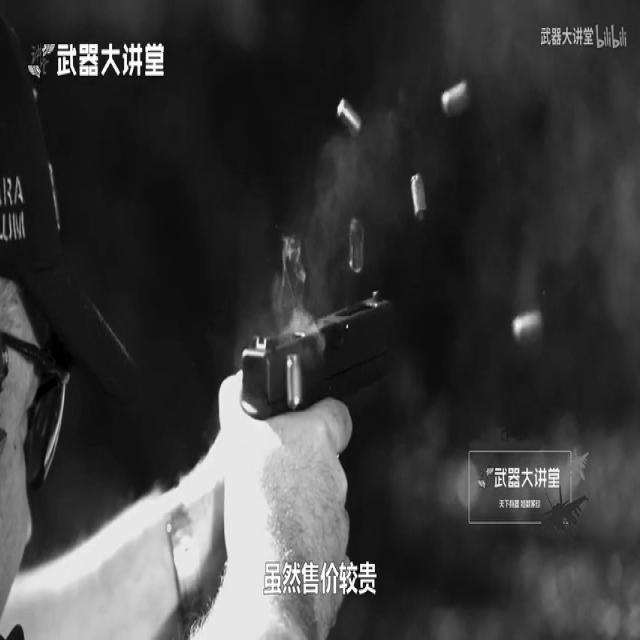Hand-Gun: (185, 239, 492, 640)
